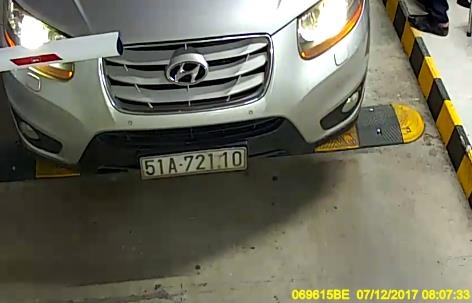plate: (137, 146, 250, 179)
